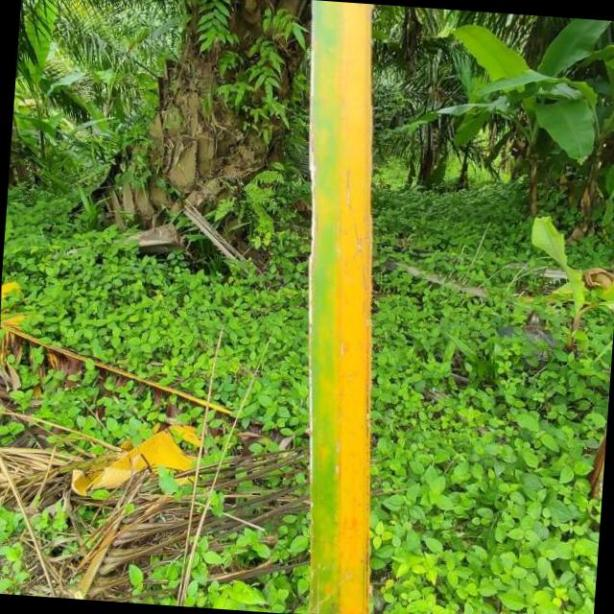Megnesium: (307, 0, 376, 614)
